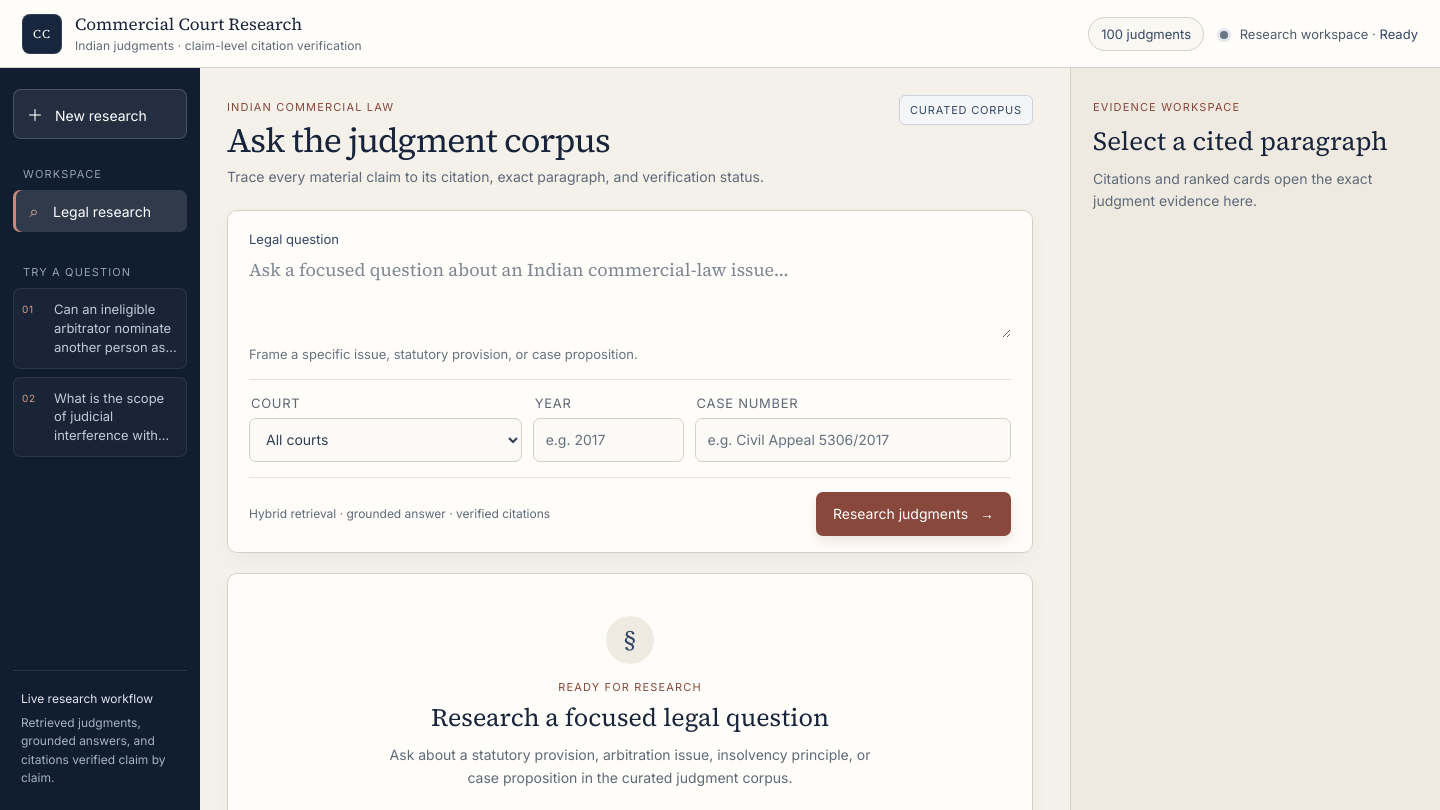
Test: ResearchWorkspace live API boundary › shows humane backend, Gemini, and verifier failure states without clearing the query
Type "Preserve this backend query" into the text box labelled "Legal question".
click(630, 297); type("Preserve this backend query")  # box x1=249 y1=256 x2=1011 y2=338
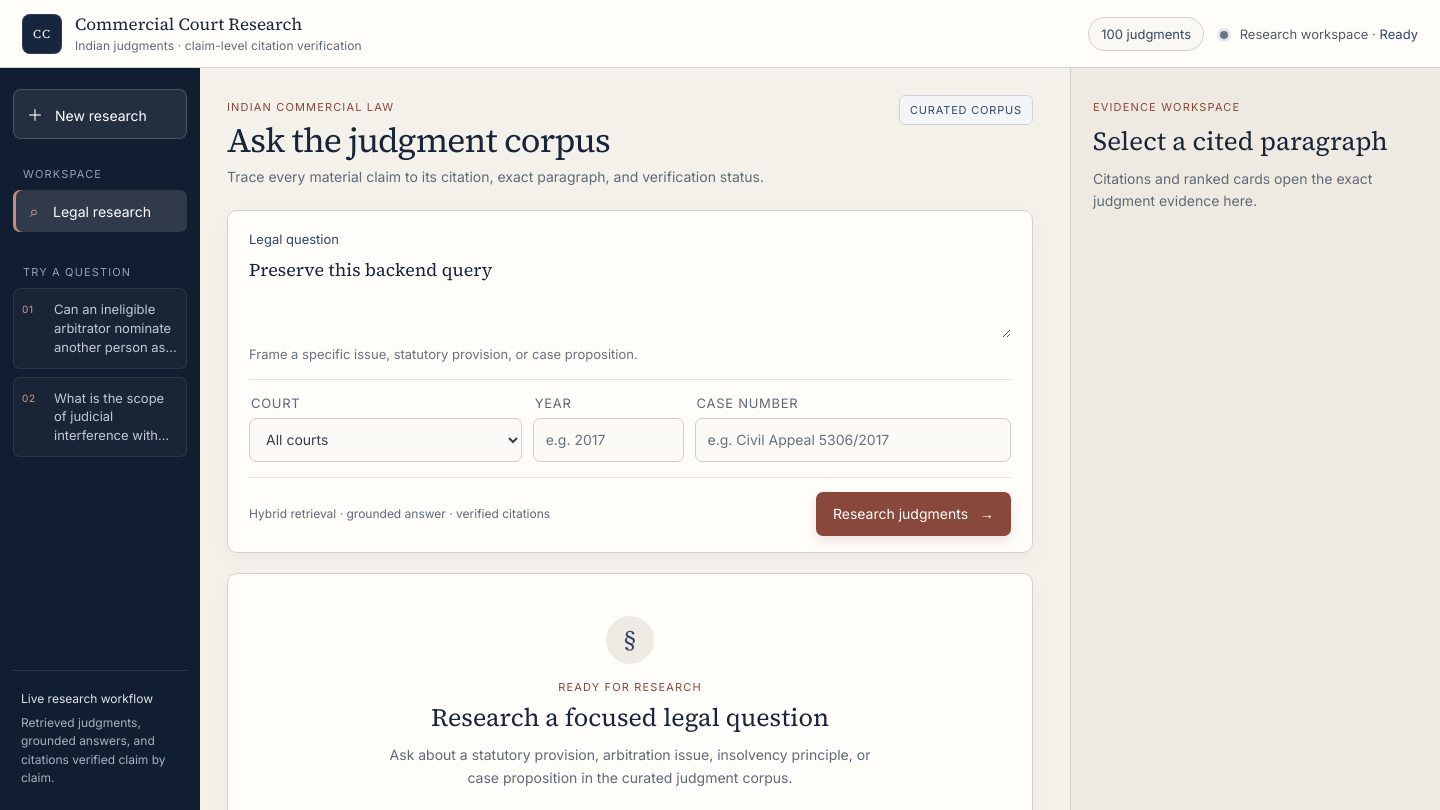
Click the button "Research judgments →".
click(913, 514)  # box x1=816 y1=492 x2=1011 y2=536
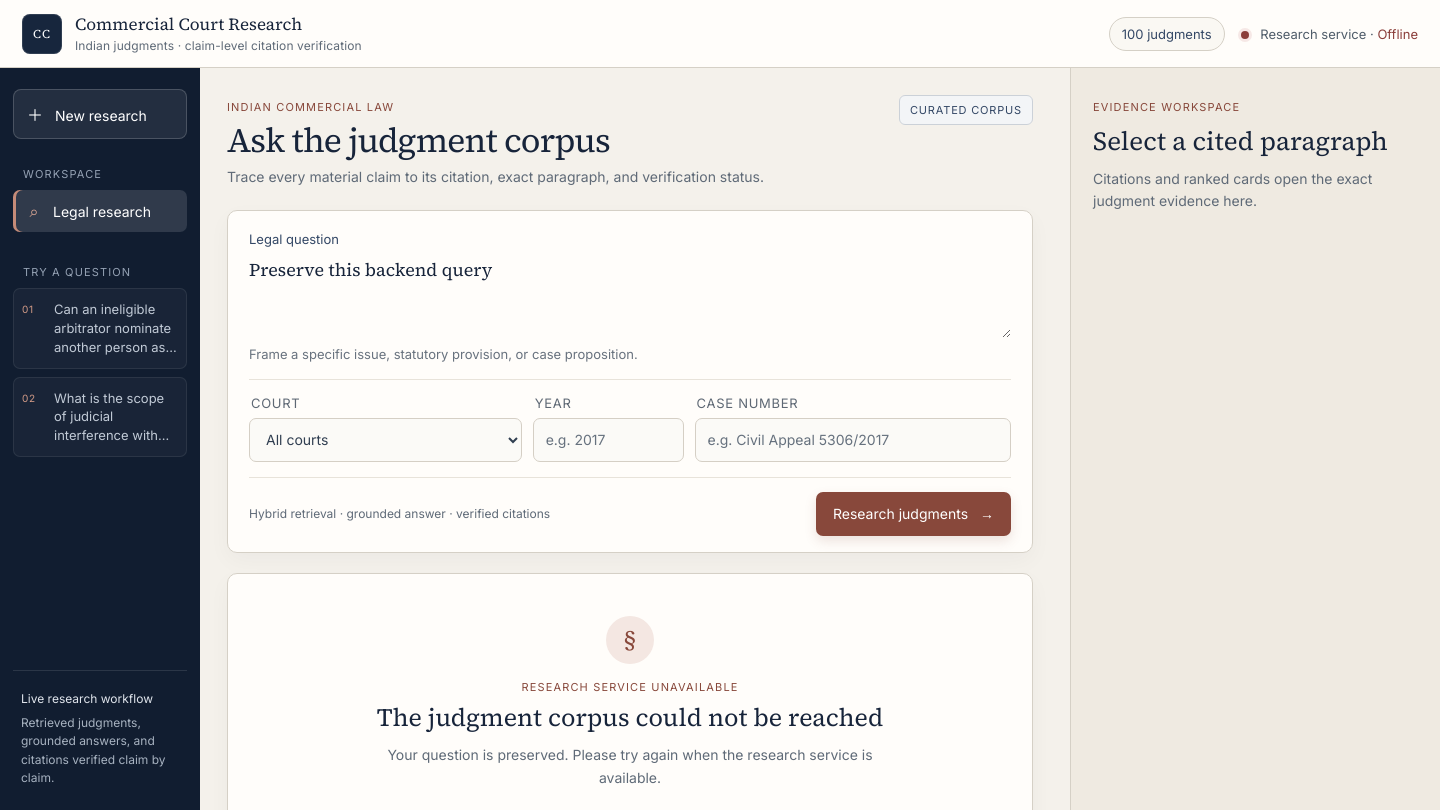
Check: the heading "The judgment corpus could not be reached" is shown, box x1=377 y1=701 x2=883 y2=733
Replace the text in the text box labelled "Legal question" with "Preserve this Gemini query" at x=630, y=297, box x1=249 y1=256 x2=1011 y2=338
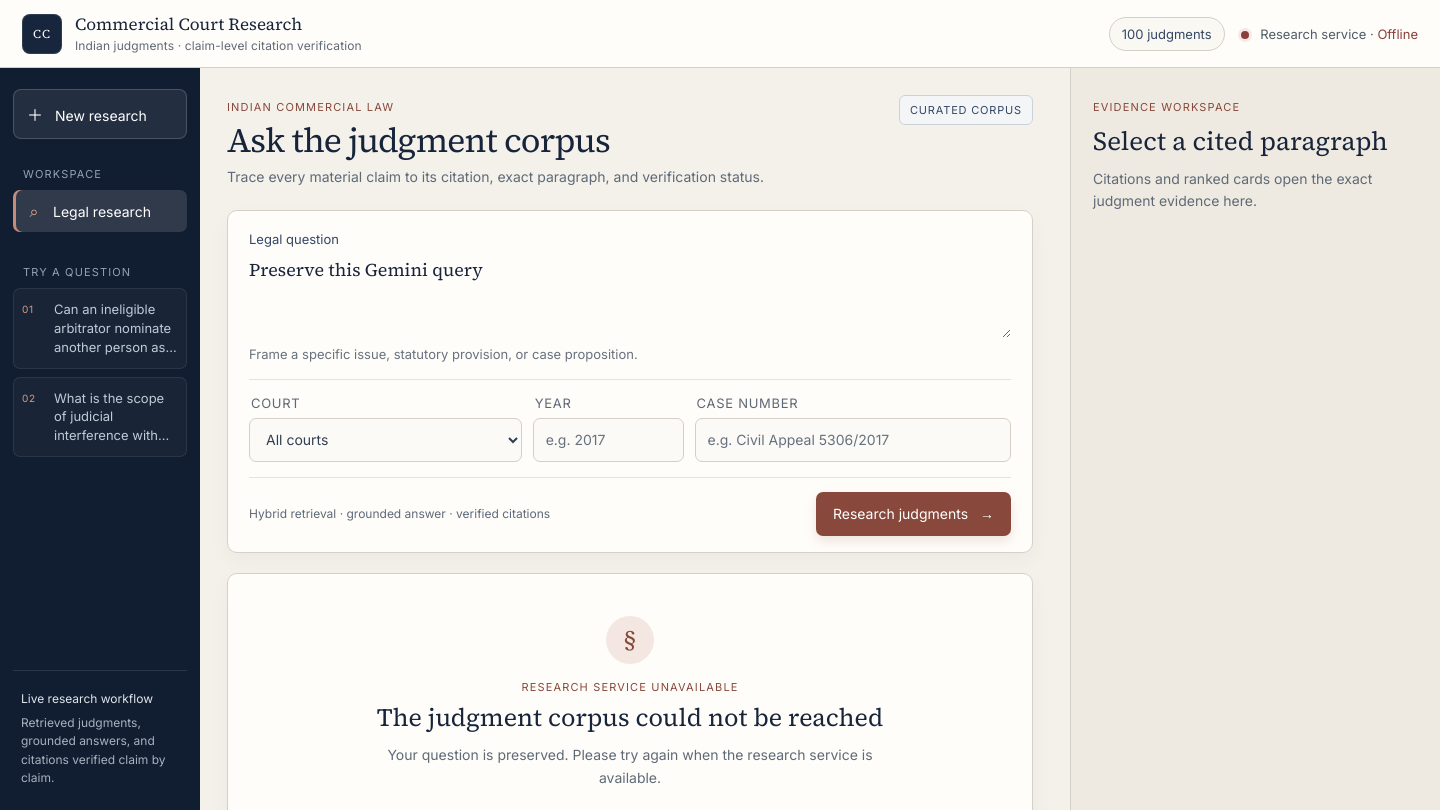
Click the button "Research judgments →".
click(913, 514)  # box x1=816 y1=492 x2=1011 y2=536
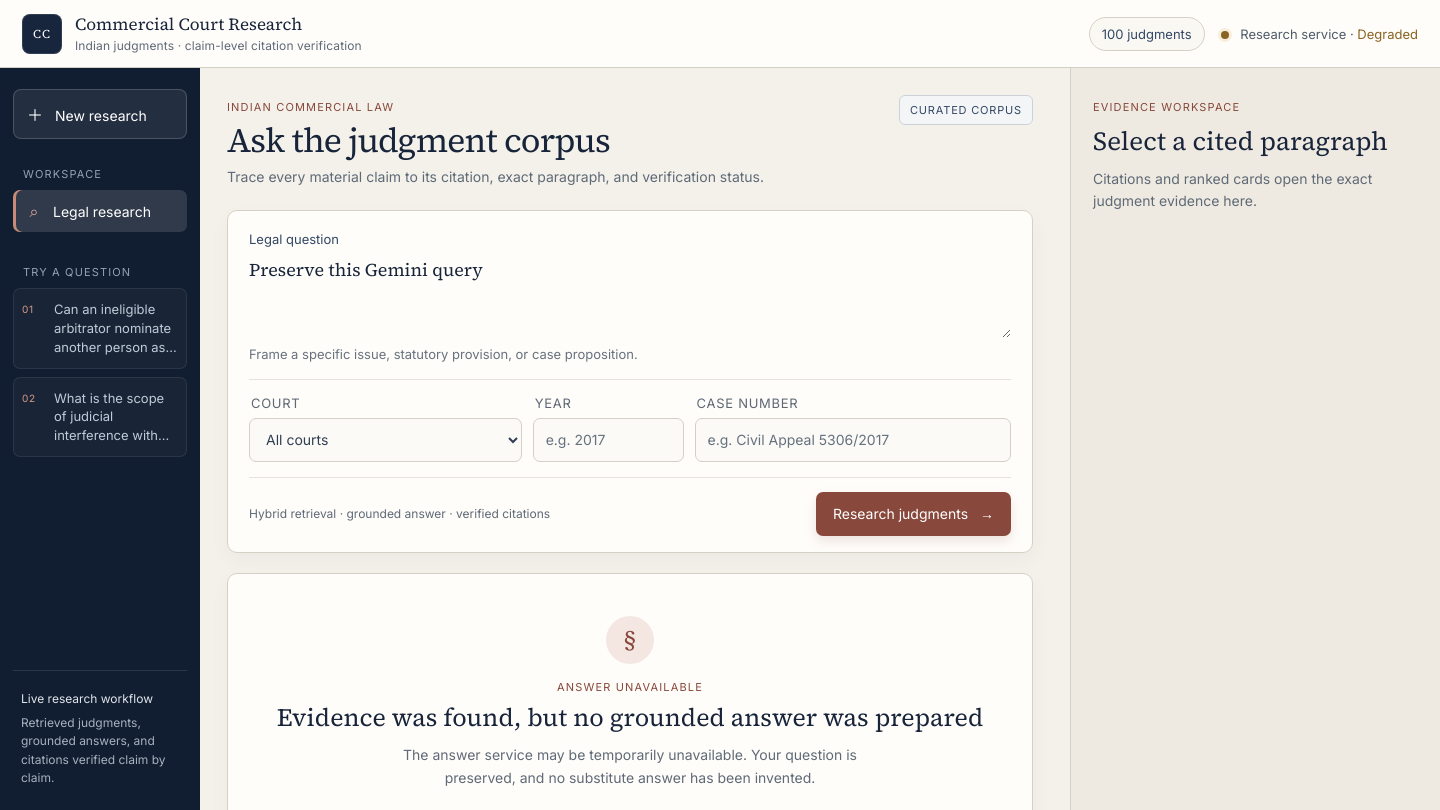
Check: the heading "Evidence was found, but no grounded answer was prepared" is shown, box x1=277 y1=701 x2=983 y2=733
Check: the text "no substitute answer has been invented" is shown, box x1=403 y1=746 x2=857 y2=786
Replace the text in the text box labelled "Legal question" with "Preserve this verification query" at x=630, y=297, box x1=249 y1=256 x2=1011 y2=338
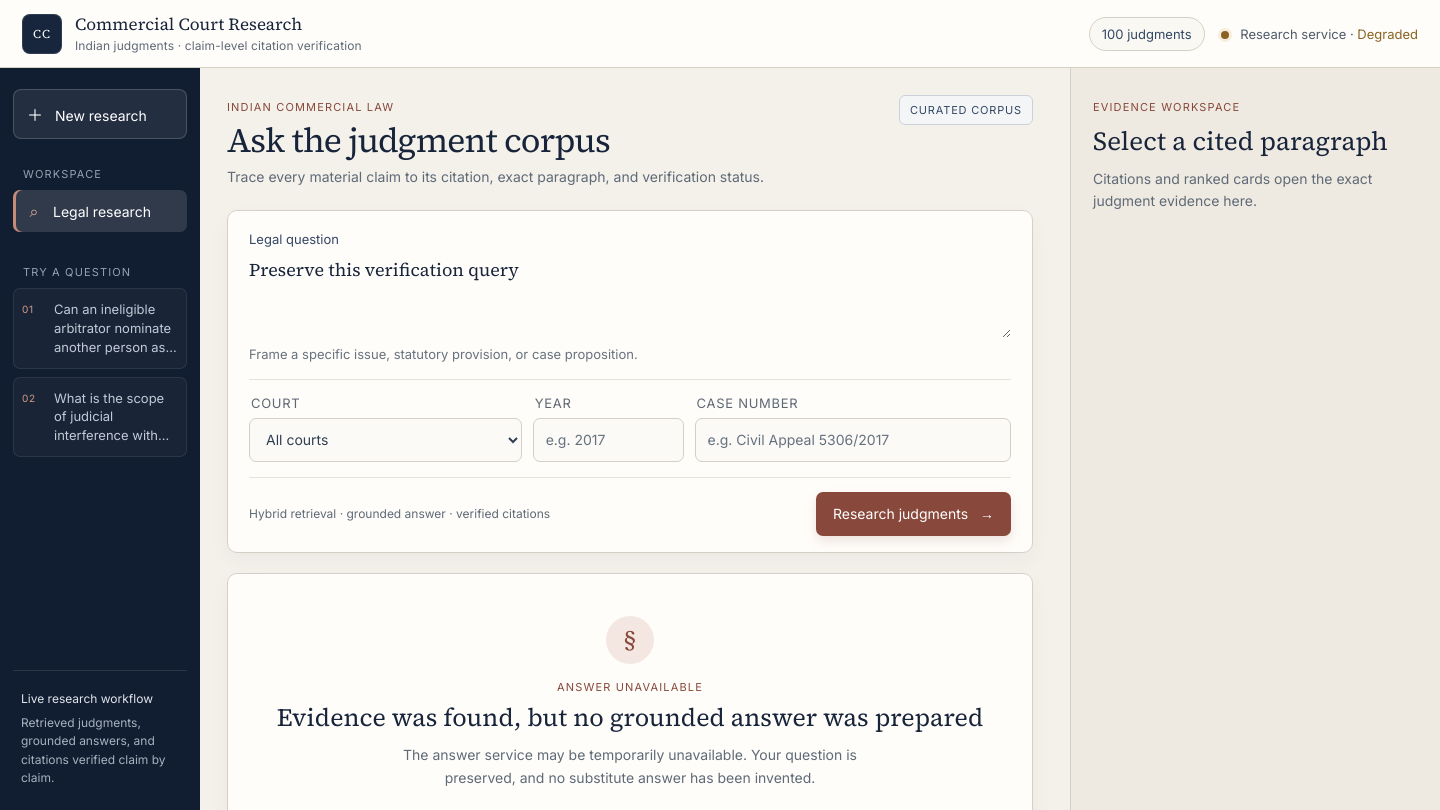
Click the button "Research judgments →".
click(913, 514)  # box x1=816 y1=492 x2=1011 y2=536
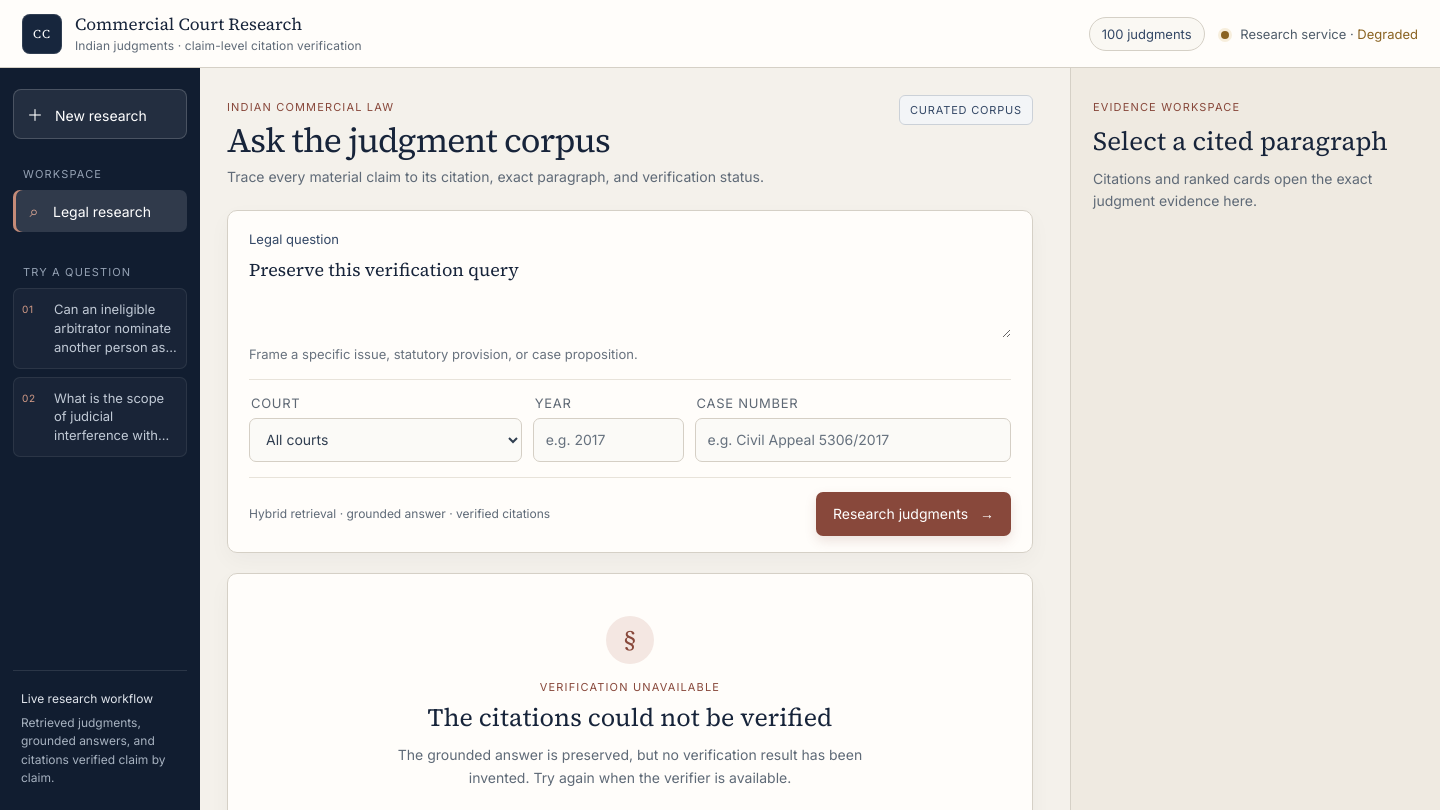
Check: the heading "The citations could not be verified" is shown, box x1=428 y1=701 x2=832 y2=733
Check: the text "no verification result has been invented" is shown, box x1=398 y1=746 x2=862 y2=786
